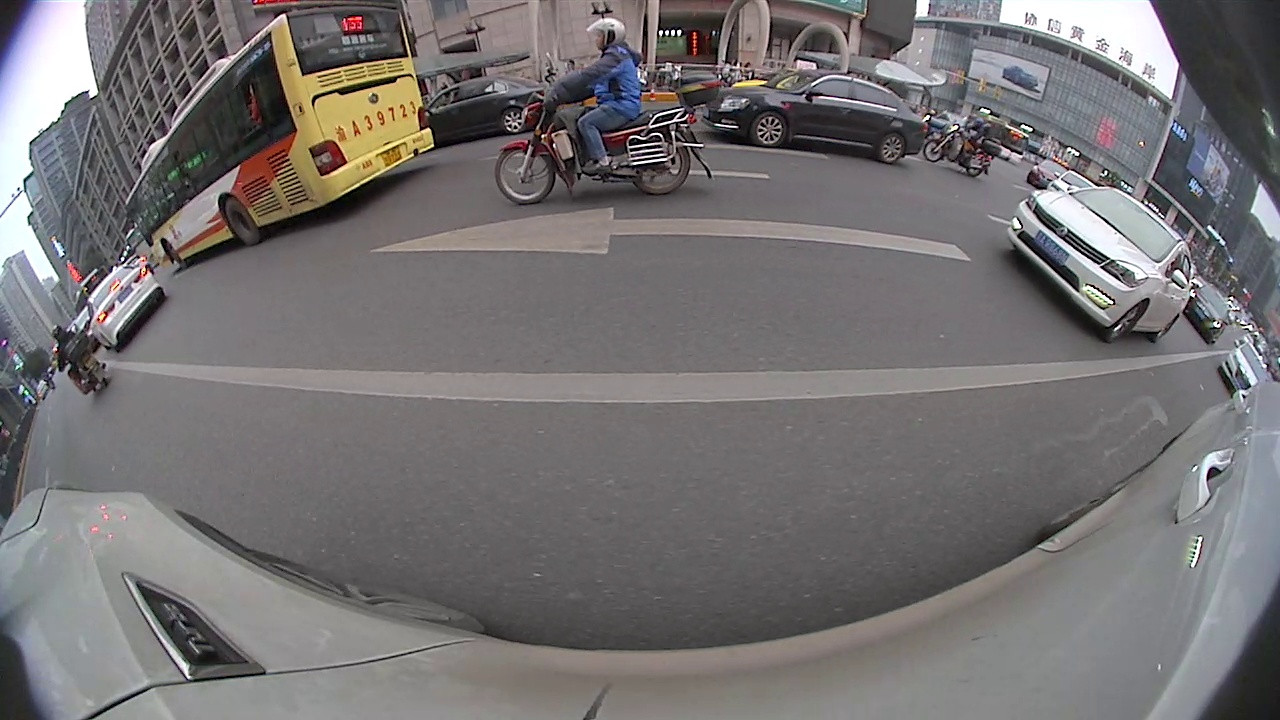bus: (124, 13, 436, 269)
car: (1007, 181, 1197, 347), (422, 69, 551, 148), (80, 257, 170, 353), (1181, 281, 1234, 343), (1221, 342, 1273, 400)
front: (492, 143, 556, 209), (1104, 300, 1145, 346), (754, 110, 788, 148), (922, 137, 946, 164)
rear: (633, 144, 692, 197), (220, 197, 261, 247), (877, 132, 906, 167), (500, 104, 528, 135)
rider: (494, 18, 700, 210), (702, 72, 931, 168), (918, 108, 1008, 180), (46, 321, 110, 402)
